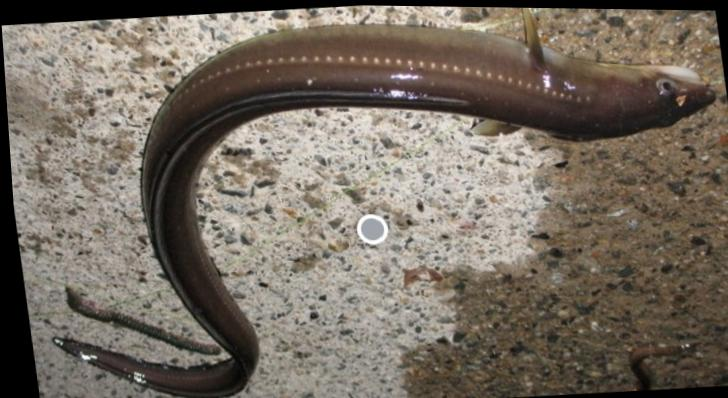fish: (51, 6, 714, 398)
